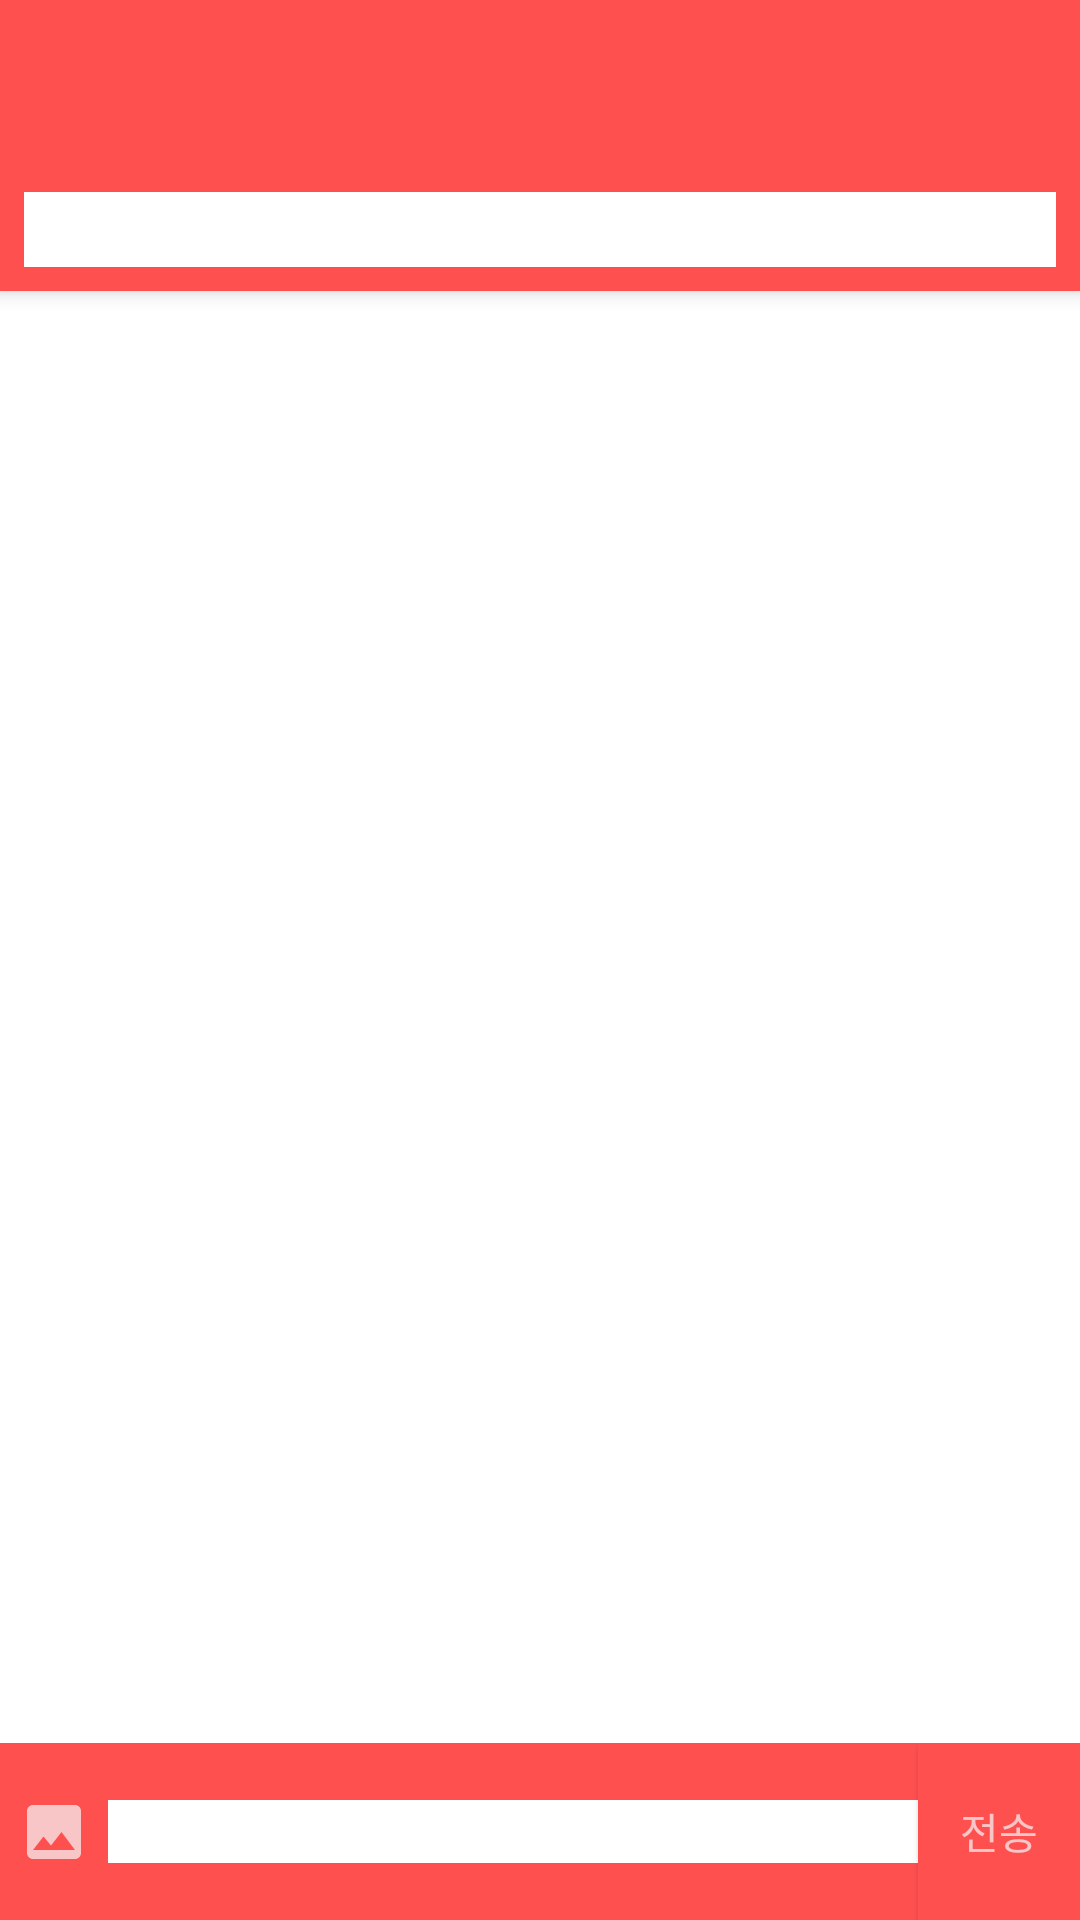

Icon click points for this 1080×1920 phone screenshot, format (x=x, y=y):
photo: (x=54, y=1832)
